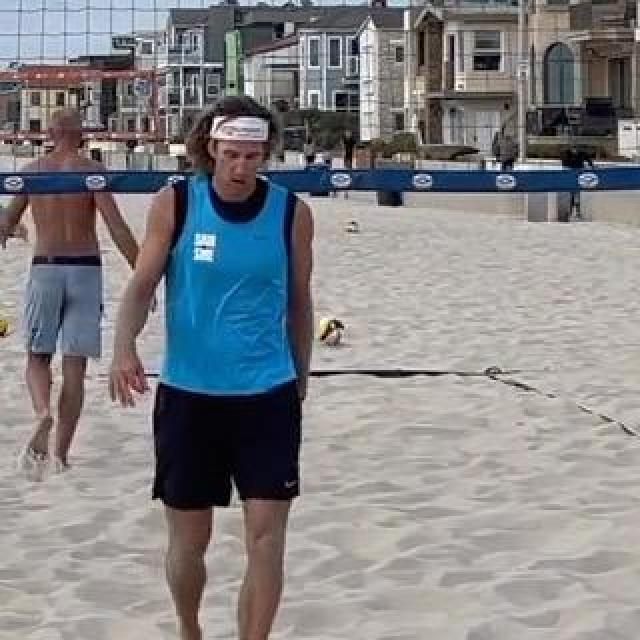volleyball: (317, 316, 343, 346), (344, 220, 360, 234), (0, 317, 10, 337)
